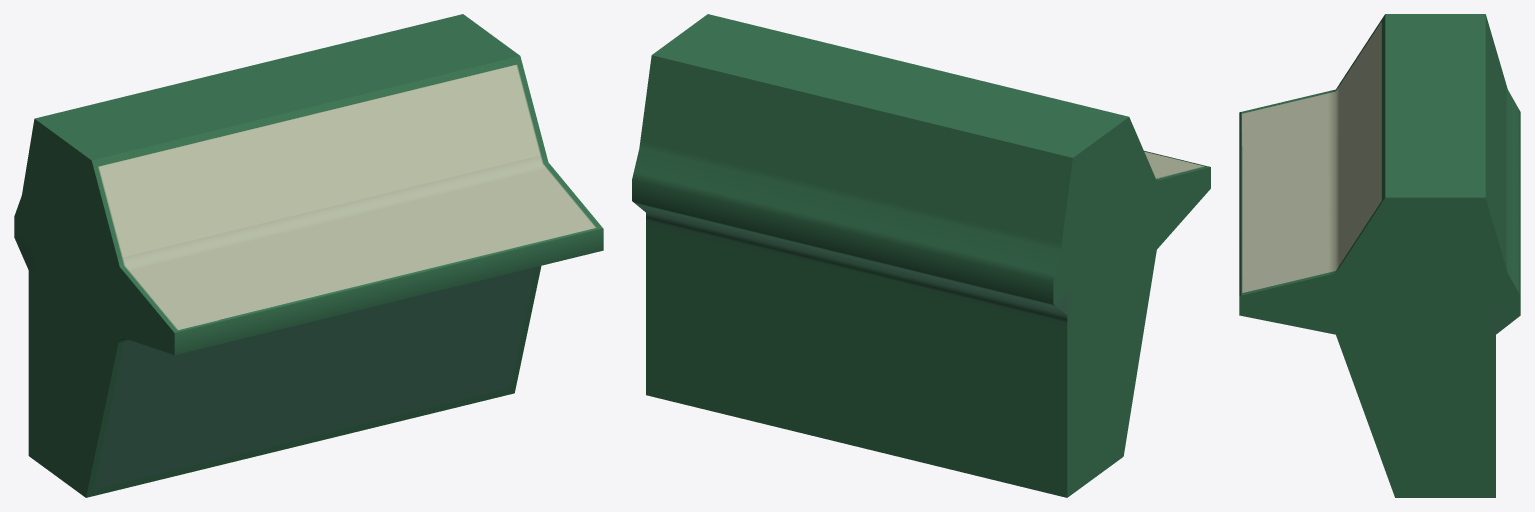
The model's file is terminal-TEXTURES.glb.
The picture shows the model from 3 angles, left to right: view 1: azimuth 30°, elevation 25°; view 2: azimuth 150°, elevation 25°; view 3: azimuth 270°, elevation 25°; orthographic projection. The views are drawn at different scales.
Visible parts, largest first — view 1: pCube1; view 2: pCube1; view 3: pCube1.
Boxes of the visible parts, x1=… form: pCube1: x1=14, y1=14, x2=603, y2=497; pCube1: x1=632, y1=14, x2=1210, y2=497; pCube1: x1=1239, y1=14, x2=1520, y2=497.
Size of the model in its own units: 4.31 by 3.28 by 2.79.
1 material, 1 textured.
